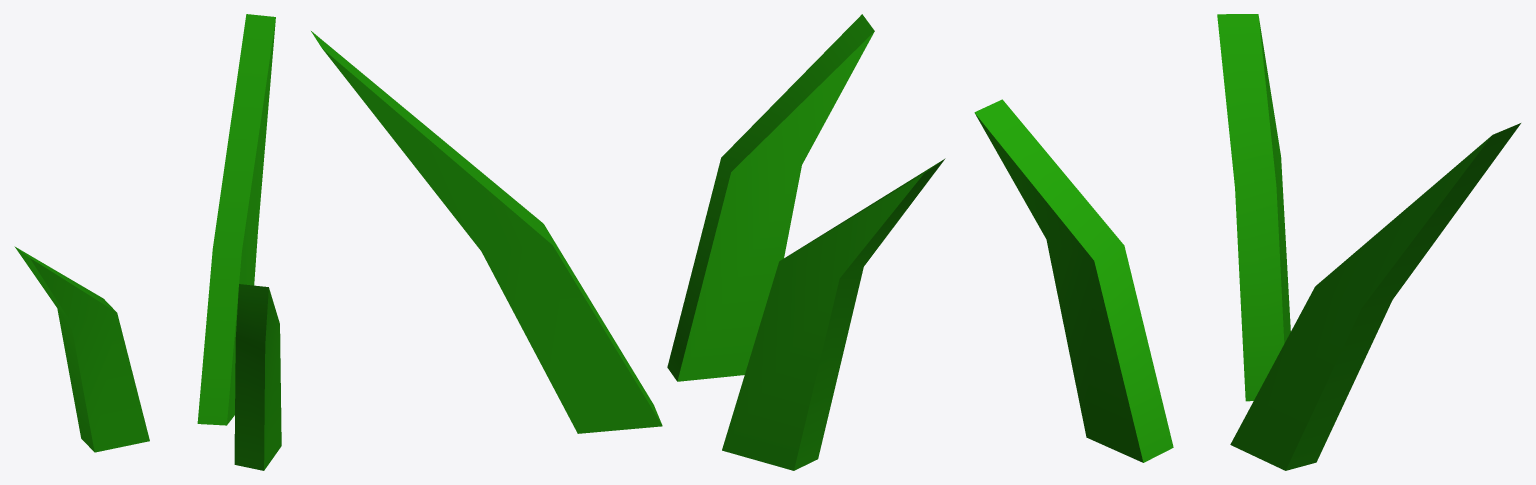
The model's file is SM_Wheat_Seed_2.FBX.
3 renders of one model, left to right at view 1: azimuth 30°, elevation 25°; view 2: azimuth 150°, elevation 25°; view 3: azimuth 270°, elevation 25°, orthographic. The views are drawn at different scales.
Visible parts, largest first — view 1: Object036; view 2: Object036; view 3: Object036.
Boxes of the visible parts, left/top/right/bottom form: Object036: left=14, top=14, right=281, bottom=470; Object036: left=311, top=14, right=945, bottom=470; Object036: left=974, top=14, right=1520, bottom=470.
Bounding box in the file's own units: 0.8523 × 0.71 × 0.8597.
